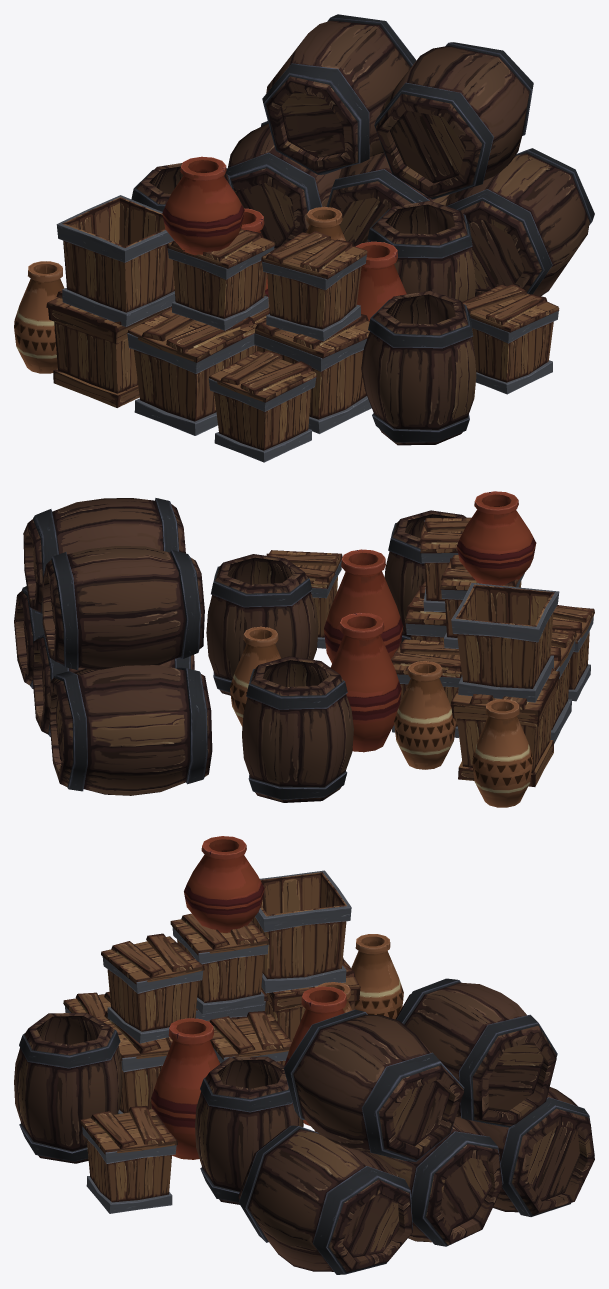
Rendered from GardenObstales.fbx.
The picture shows the model from 3 angles, top to bottom: view 1: azimuth 30°, elevation 25°; view 2: azimuth 150°, elevation 25°; view 3: azimuth 270°, elevation 25°; orthographic projection. The views are drawn at different scales.
Parts seen in each view (by area): view 1: SM_PROP_box_dungeon_02.001, SM_PROP_barrel_dungeon_03.004; view 2: SM_PROP_box_dungeon_02.001, SM_PROP_barrel_dungeon_03.004; view 3: SM_PROP_box_dungeon_02.001, SM_PROP_barrel_dungeon_03.004.
Boxes of the visible parts, left/top/right/bottom form: SM_PROP_box_dungeon_02.001: left=14, top=156, right=559, bottom=462; SM_PROP_barrel_dungeon_03.004: left=225, top=14, right=594, bottom=296; SM_PROP_box_dungeon_02.001: left=206, top=491, right=594, bottom=807; SM_PROP_barrel_dungeon_03.004: left=14, top=498, right=212, bottom=795; SM_PROP_box_dungeon_02.001: left=14, top=836, right=403, bottom=1213; SM_PROP_barrel_dungeon_03.004: left=238, top=978, right=594, bottom=1274.
Bounding box in the file's own units: 6.18 × 2.61 × 5.73.
Materials: 5 (5 with a texture image).
